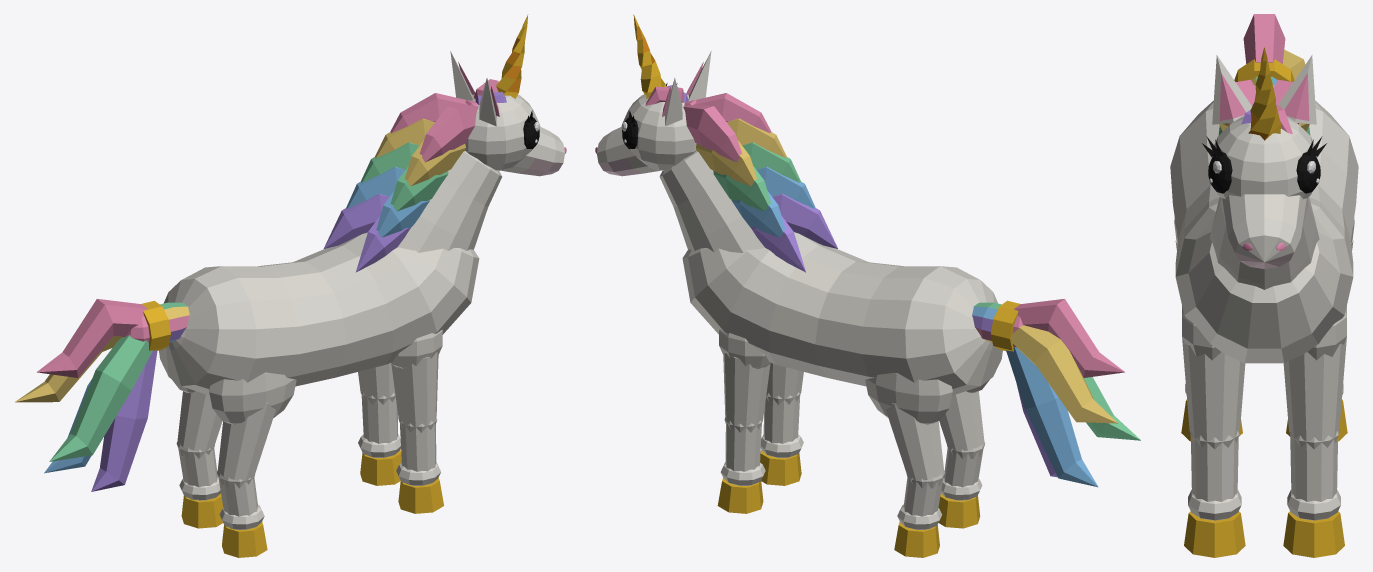
Rendered from unicorn.glb.
The picture shows the model from 3 angles, left to right: view 1: azimuth 30°, elevation 25°; view 2: azimuth 150°, elevation 25°; view 3: azimuth 270°, elevation 25°; orthographic projection. The views are drawn at different scales.
Visible parts, largest first — view 1: body, head, tail_2, leg_br, leg_fr, leg_bl, leg_fl, tail; view 2: body, head, tail_2, leg_bl, leg_fl, leg_br, leg_fr, tail; view 3: body, head, leg_fl, leg_fr, tail_2, leg_bl, leg_br.
Boxes of the visible parts, x1,y1,x2,y2 form: body: [159, 232, 479, 395]; head: [323, 14, 566, 272]; tail_2: [15, 299, 170, 491]; leg_br: [209, 372, 296, 557]; leg_fr: [391, 330, 443, 513]; leg_bl: [172, 380, 223, 528]; leg_fl: [358, 363, 401, 485]; tail: [160, 302, 189, 342]; body: [682, 232, 1002, 395]; head: [595, 14, 837, 272]; tail_2: [991, 299, 1140, 487]; leg_bl: [865, 373, 952, 557]; leg_fl: [717, 329, 770, 513]; leg_br: [938, 379, 989, 528]; leg_fr: [760, 363, 803, 485]; tail: [972, 302, 1001, 342]; body: [1170, 85, 1358, 363]; head: [1202, 47, 1326, 289]; leg_fl: [1283, 306, 1346, 557]; leg_fr: [1182, 306, 1245, 557]; tail_2: [1234, 14, 1305, 81]; leg_bl: [1286, 218, 1354, 441]; leg_br: [1174, 218, 1242, 441].
Bounding box in the file's own units: 3.06 × 2.45 × 0.72.
